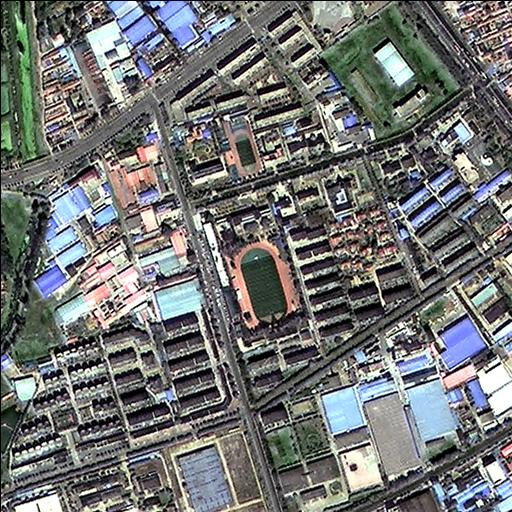school: (213, 200, 302, 332), (172, 117, 267, 200)
